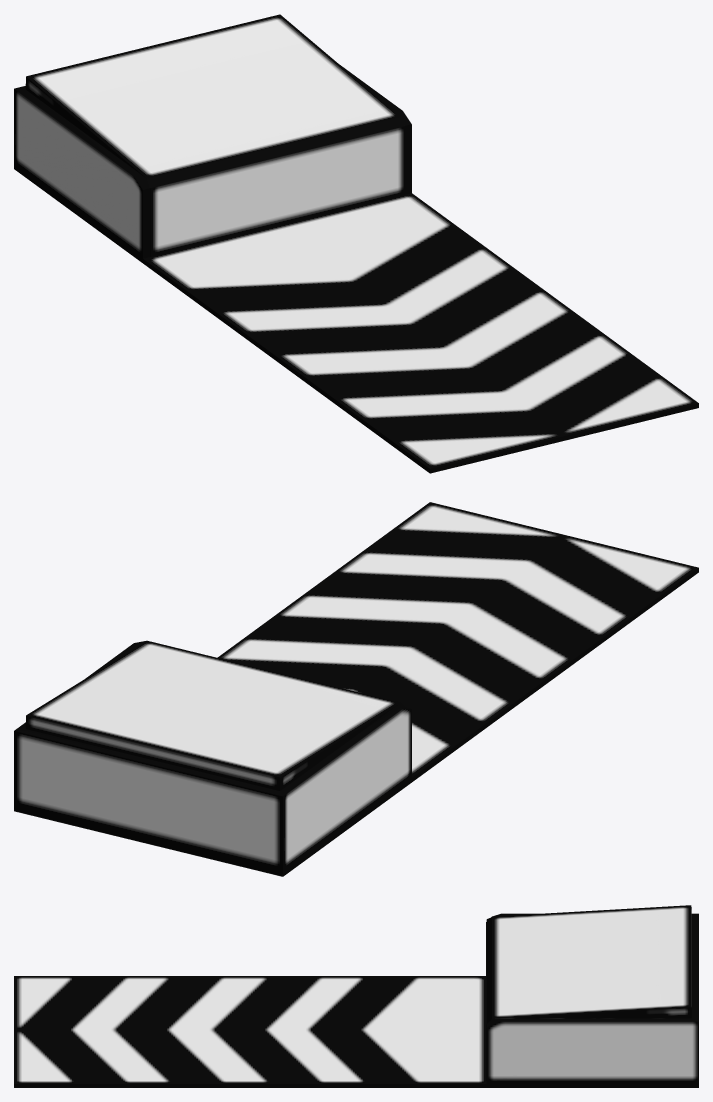
The model's file is Airport.obj.
The picture shows the model from 3 angles, top to bottom: view 1: azimuth 30°, elevation 25°; view 2: azimuth 150°, elevation 25°; view 3: azimuth 270°, elevation 25°; orthographic projection. The views are drawn at different scales.
Parts seen in each view (by area): view 1: Box06; view 2: Box06; view 3: Box06.
Part boxes in pixels (x1,y1,x2,y2): Box06: (14,14,698,473); Box06: (14,502,698,876); Box06: (14,905,698,1087).
Size of the model in its own units: 5.97 by 2 by 15.99.
1 material, 1 textured.
